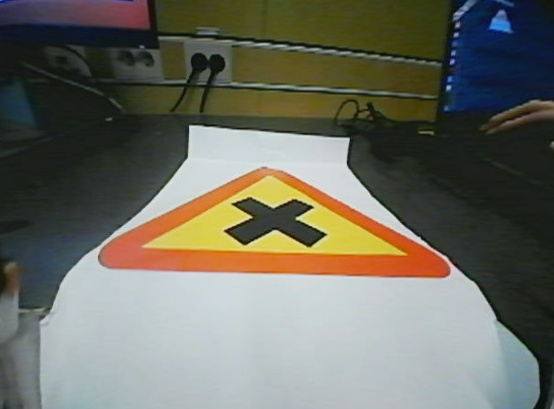junction: (88, 162, 458, 283)
